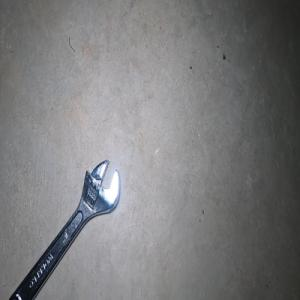Wrench: (8, 159, 119, 300)
